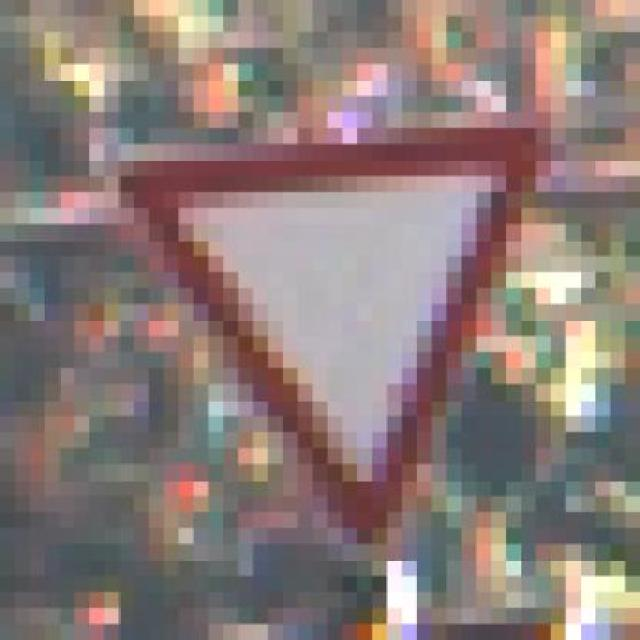Give Way: (89, 96, 580, 624)
